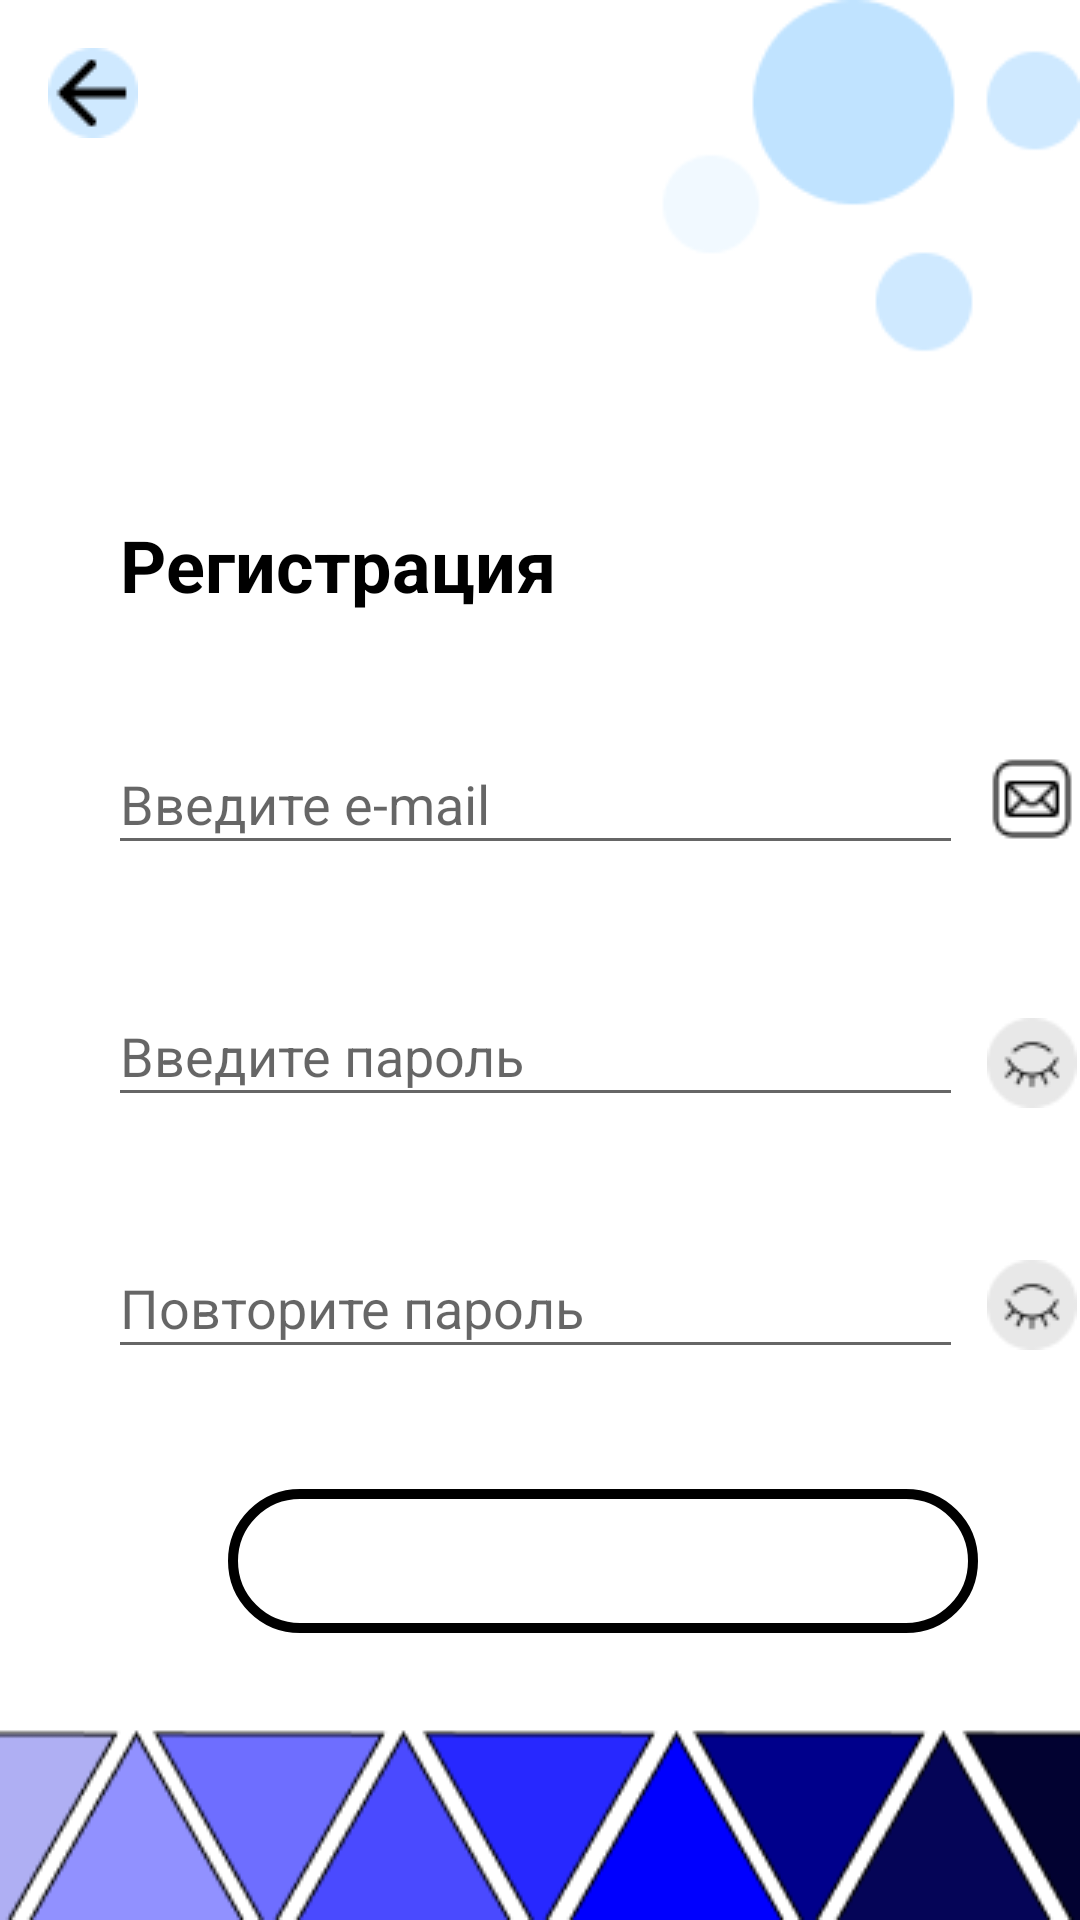

Point at icon controls on the screen. Image size 1080 x 1920, points as point (x, y).
buttonback: point (93, 93)
notpassword: point (1032, 1064), point (1032, 1306)
